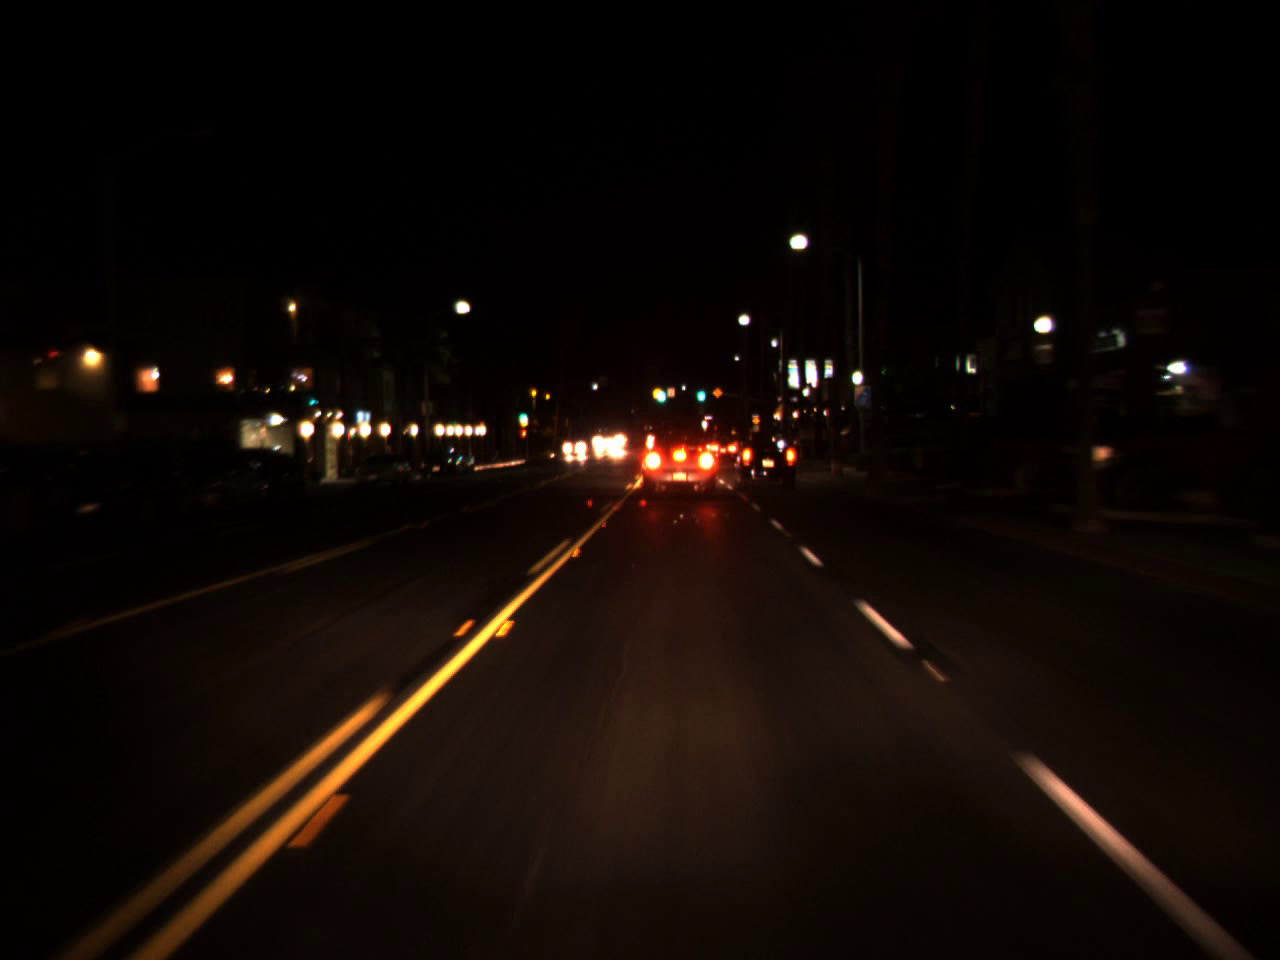go: (651, 380, 667, 404), (694, 380, 706, 404), (517, 408, 527, 419)
